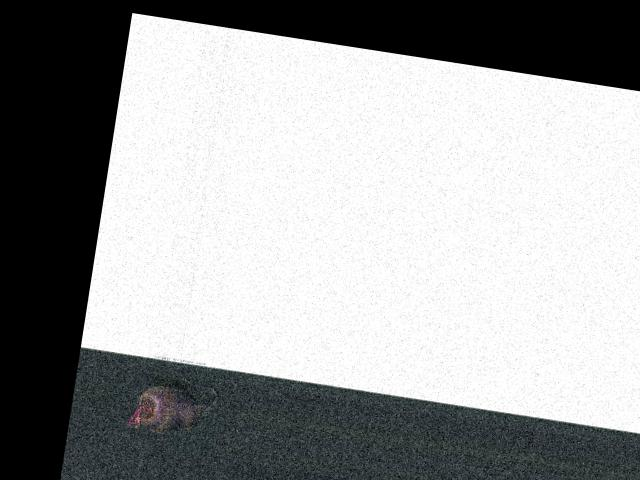beet: (123, 370, 220, 441)
